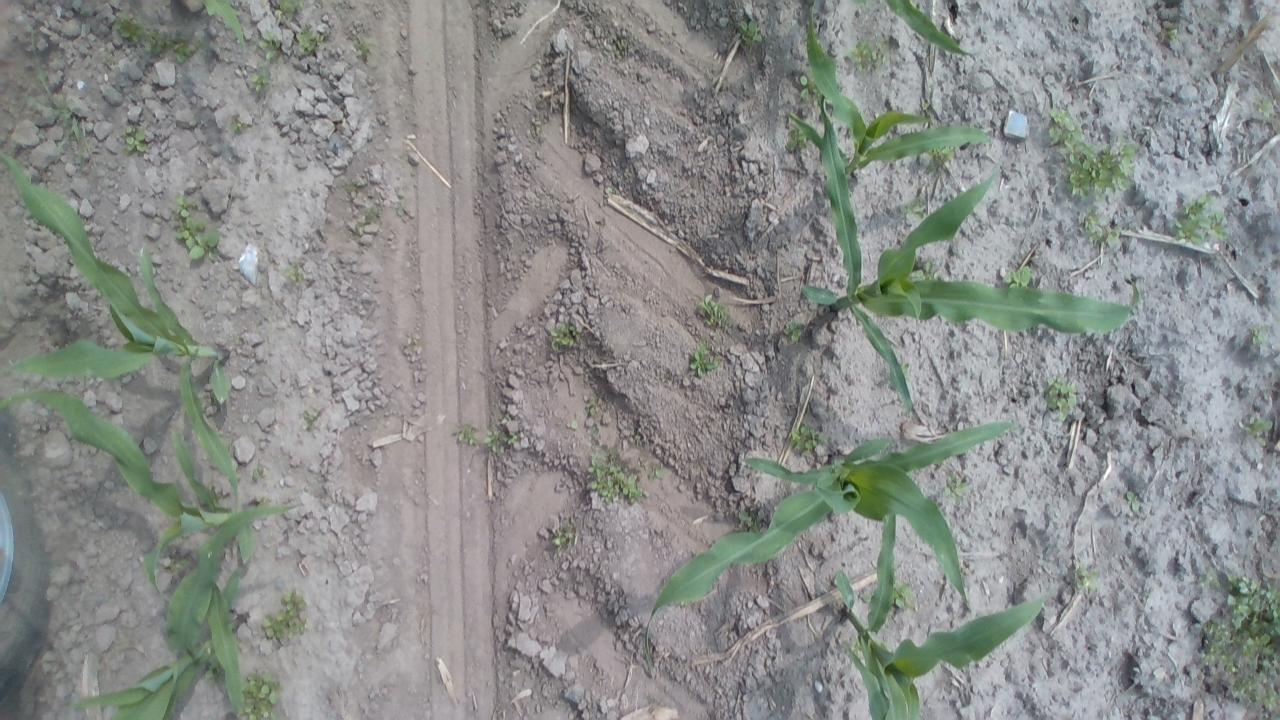Maize: (812, 85, 1146, 414), (636, 408, 1024, 679), (0, 149, 260, 497), (2, 380, 274, 596), (46, 497, 306, 720), (822, 502, 1051, 720), (782, 6, 996, 176), (886, 0, 980, 63), (197, 0, 250, 56)
Weeds: (1193, 563, 1280, 720), (1048, 107, 1138, 204), (26, 19, 88, 144), (104, 5, 209, 66), (167, 188, 227, 264), (582, 438, 648, 505), (336, 171, 386, 241), (1170, 190, 1230, 248), (261, 588, 315, 646), (450, 414, 524, 454), (230, 666, 284, 720), (544, 309, 590, 356), (1041, 374, 1081, 426), (844, 35, 890, 77), (786, 417, 828, 456), (774, 120, 814, 160), (1241, 412, 1280, 452), (1066, 561, 1104, 602), (884, 574, 922, 614), (1083, 212, 1123, 250), (937, 470, 977, 505), (795, 71, 832, 108), (686, 341, 724, 377), (544, 520, 586, 552), (698, 288, 728, 332), (902, 257, 948, 284), (296, 22, 327, 62), (1249, 88, 1279, 128), (293, 400, 325, 436), (119, 122, 151, 158), (1002, 264, 1040, 294), (256, 30, 290, 62), (602, 24, 632, 60), (897, 196, 933, 226), (926, 140, 956, 174), (268, 0, 314, 21), (581, 390, 613, 420), (246, 62, 276, 94), (646, 456, 676, 487), (735, 15, 764, 47), (781, 314, 809, 346), (350, 30, 376, 64), (284, 256, 310, 288), (226, 110, 256, 136), (1118, 487, 1142, 516), (736, 506, 762, 532), (1166, 25, 1190, 52), (202, 658, 224, 686), (388, 190, 409, 219), (244, 456, 264, 486), (1248, 328, 1269, 350)
